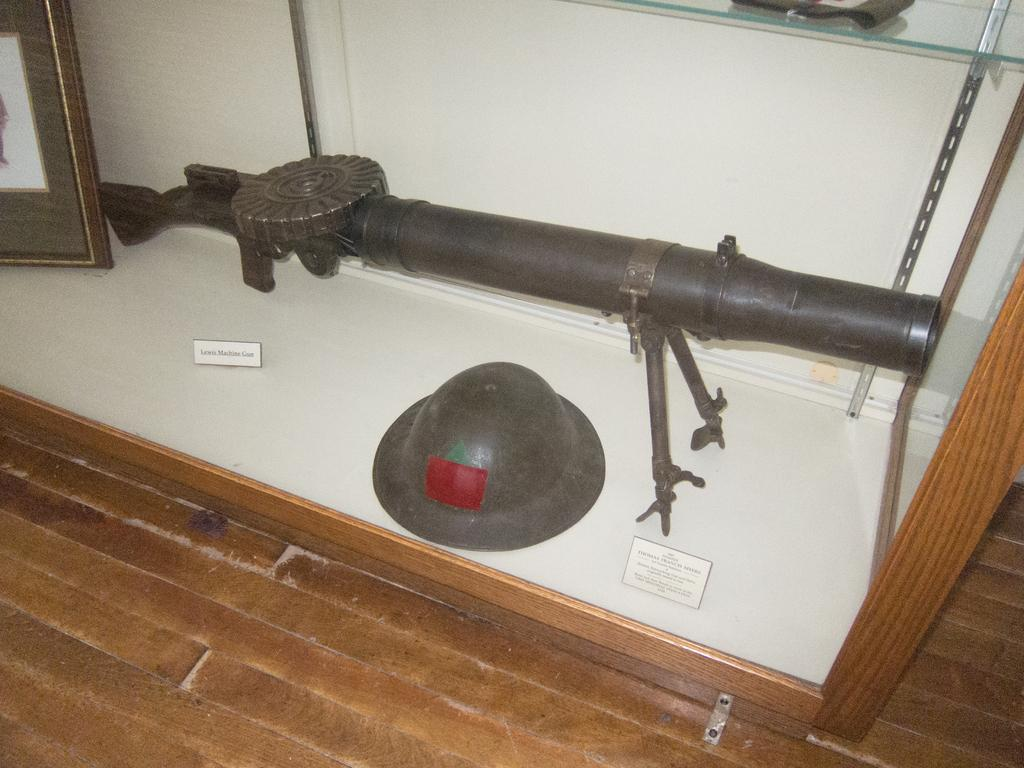Hat: (370, 359, 606, 548)
